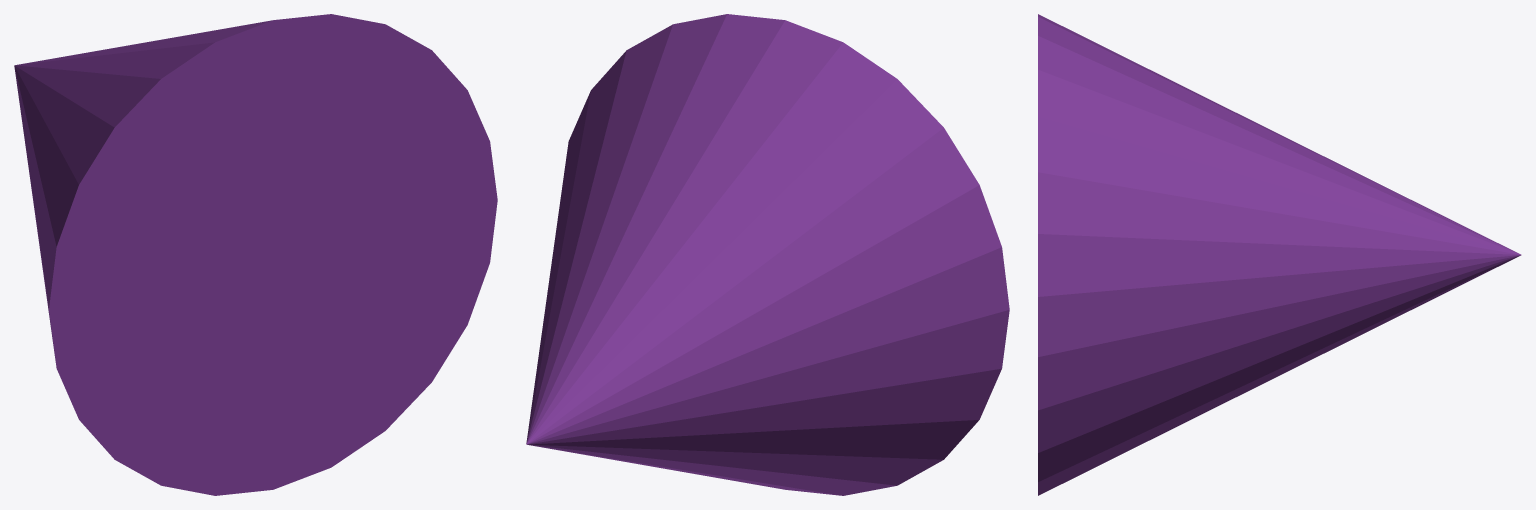
Rendered from PlayerPoint.obj.
3 renders of one model, left to right at view 1: azimuth 30°, elevation 25°; view 2: azimuth 150°, elevation 25°; view 3: azimuth 270°, elevation 25°, orthographic. The views are drawn at different scales.
Visible parts, largest first — view 1: obj_0; view 2: obj_0; view 3: obj_0.
Part boxes in pixels (<box>): obj_0: <box>14,14,497,495</box>; obj_0: <box>526,14,1009,495</box>; obj_0: <box>1038,14,1521,495</box>.
Bounding box in the file's own units: 20 × 20 × 20.
